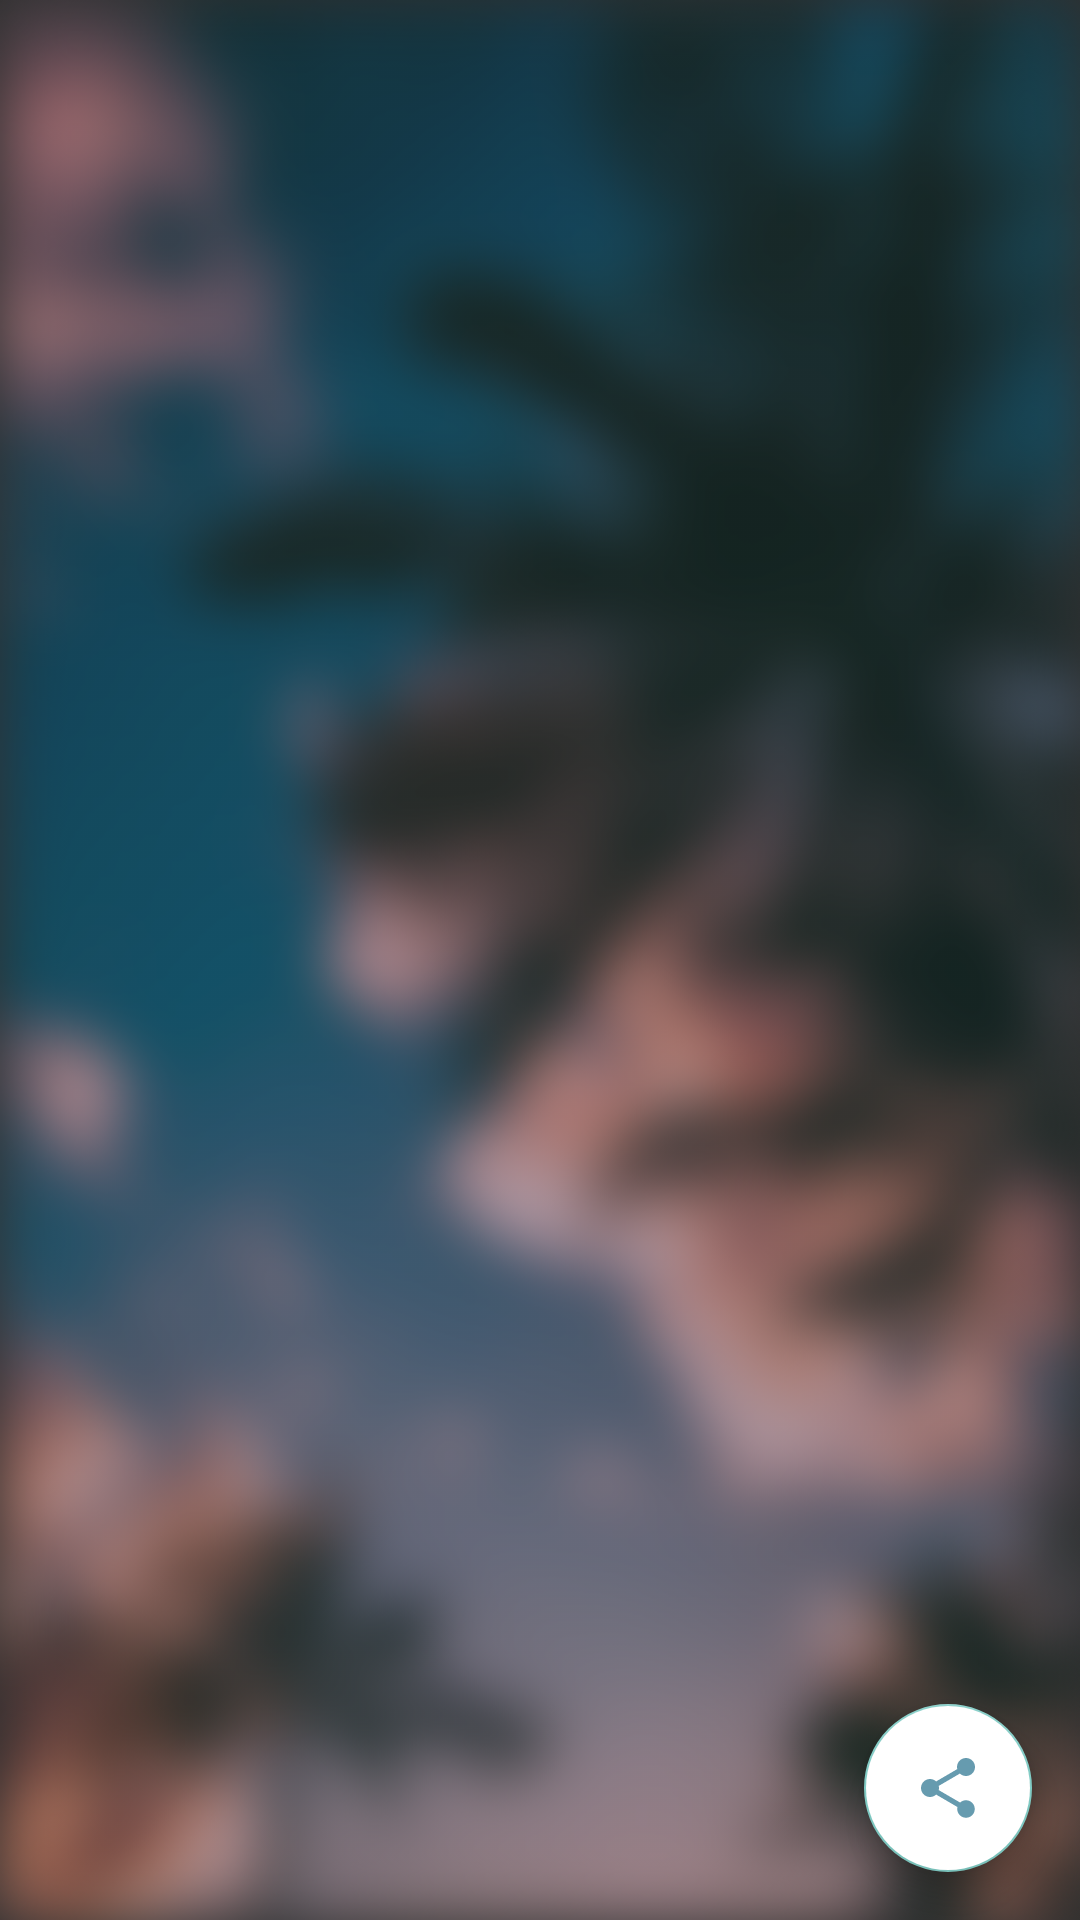

Icon click points for this 1080w x 1920h phone screenshot, format (x=x, y=y):
share: (x=948, y=1788)
